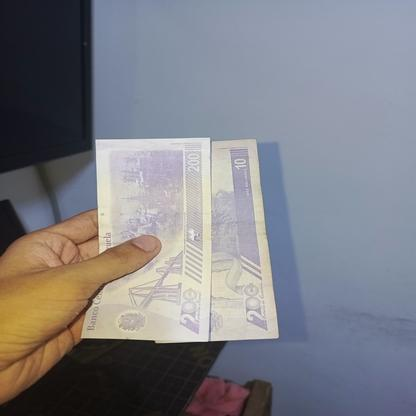ten-back-vef: (136, 74, 208, 278)
two_hundred-back-vef: (204, 74, 336, 278)
